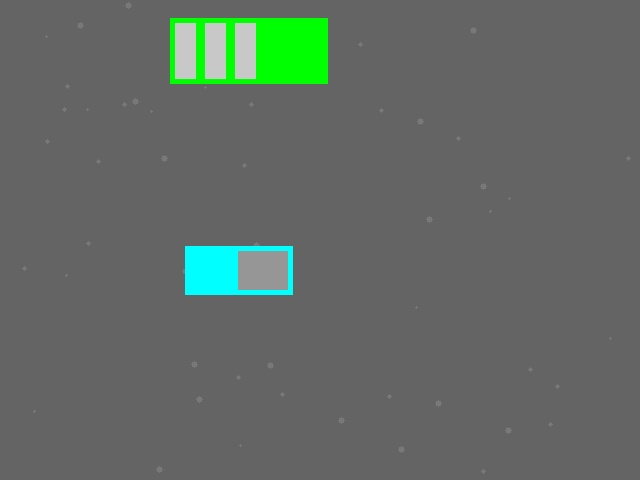bus: (170, 18, 327, 83)
truck: (185, 246, 292, 294)
